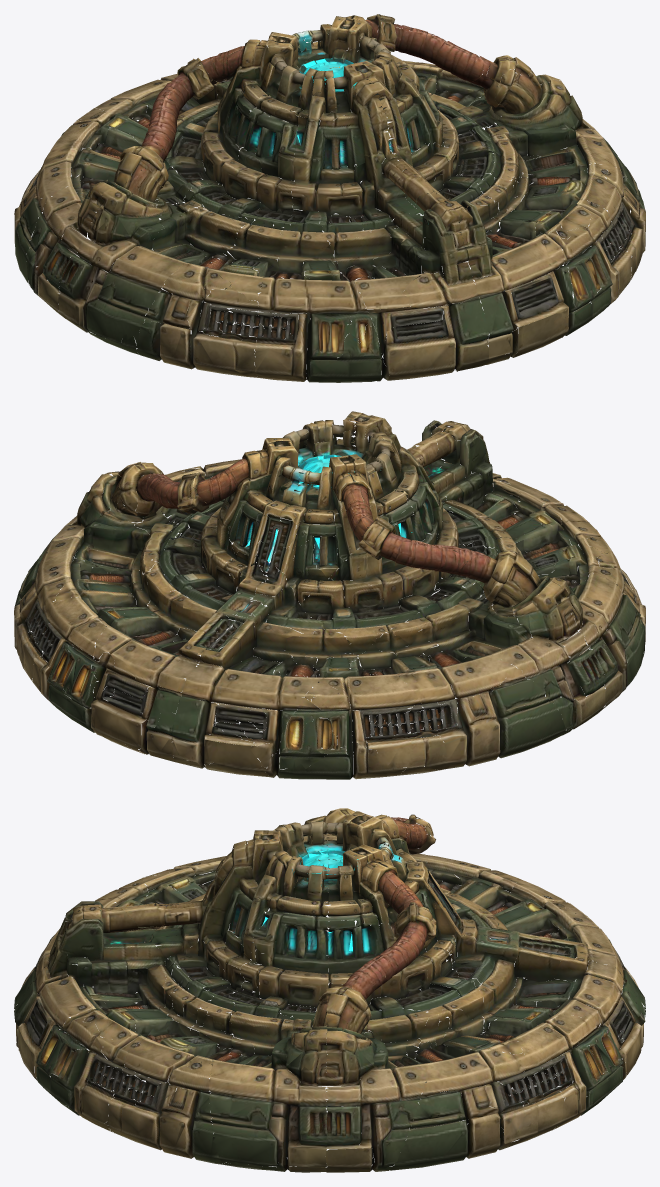
The model's file is warrior-2-tier-1.glb.
3 views of the same model, one above another, from view 1: azimuth 30°, elevation 25°; view 2: azimuth 150°, elevation 25°; view 3: azimuth 270°, elevation 25° (orthographic).
Parts seen in each view (by area): view 1: fixed-platform, moving-assembly; view 2: fixed-platform, moving-assembly; view 3: fixed-platform, moving-assembly.
Boxes of the visible parts, left/top/right/bottom form: fixed-platform: left=14, top=60, right=645, bottom=382; moving-assembly: left=79, top=14, right=582, bottom=266; fixed-platform: left=14, top=453, right=645, bottom=779; moving-assembly: left=77, top=411, right=581, bottom=659; fixed-platform: left=14, top=853, right=645, bottom=1172; moving-assembly: left=54, top=808, right=579, bottom=1072.
Size of the model in its own units: 0.8313 by 0.3068 by 0.8348.
Materials: 2 (2 with a texture image).
